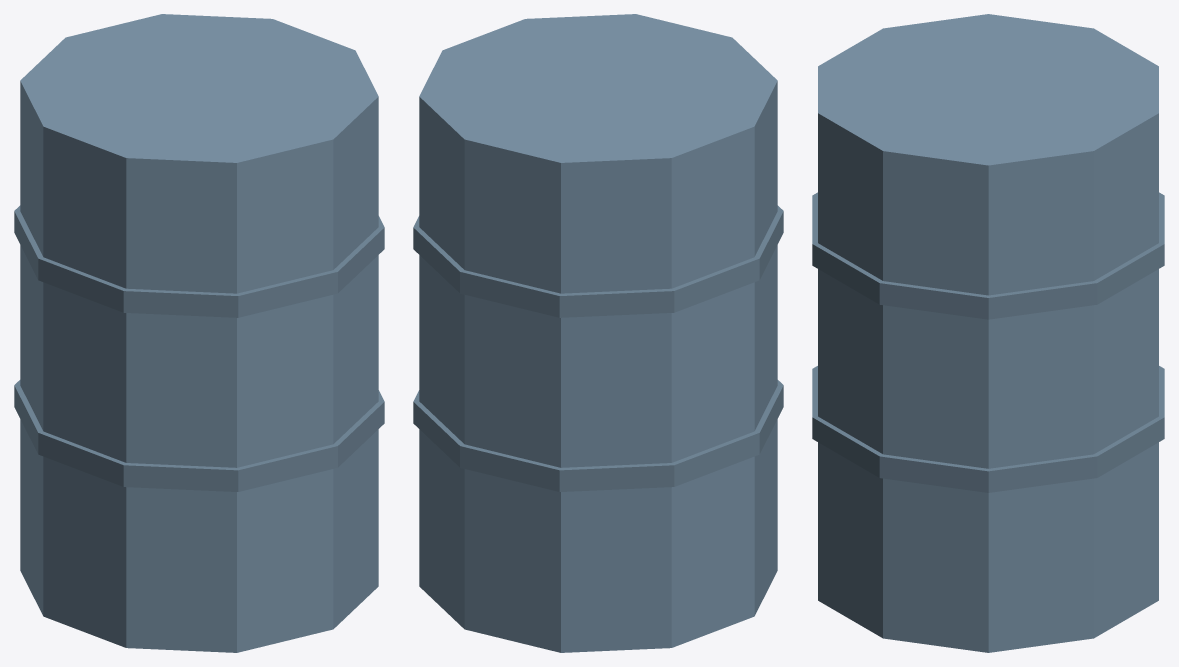
Rendered from node_barrel.glb.
3 views of the same model, side by side, from view 1: azimuth 30°, elevation 25°; view 2: azimuth 150°, elevation 25°; view 3: azimuth 270°, elevation 25° (orthographic).
Parts seen in each view (by area): view 1: node_barrel; view 2: node_barrel; view 3: node_barrel.
Boxes of the visible parts, x1,y1,x2,y2 form: node_barrel: [14, 14, 384, 652]; node_barrel: [413, 14, 783, 652]; node_barrel: [812, 14, 1164, 652].
Bounding box in the file's own units: 0.62 × 0.9 × 0.5897.
